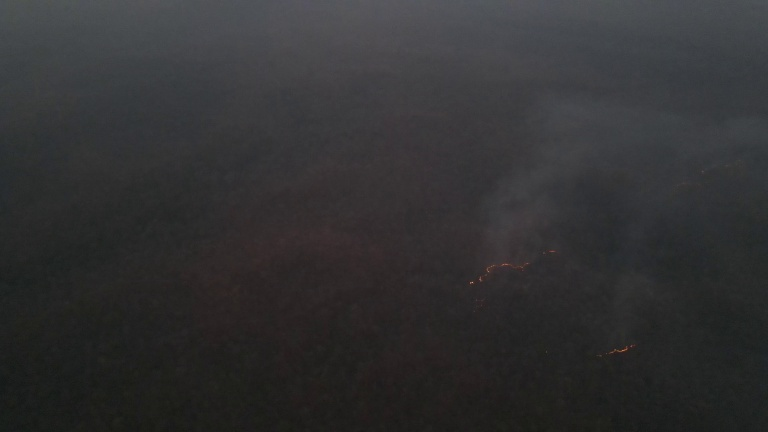fire: (465, 248, 562, 292), (591, 336, 639, 359)
smoke: (483, 91, 621, 246)
